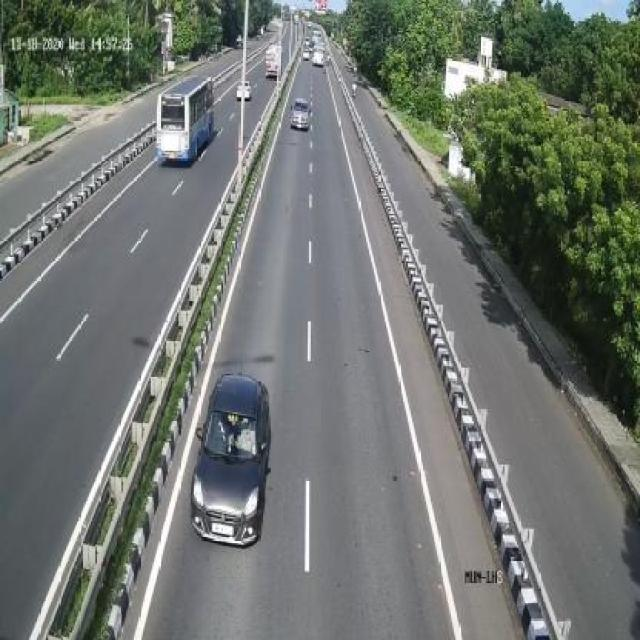car: (186, 369, 279, 546), (291, 94, 312, 134)
